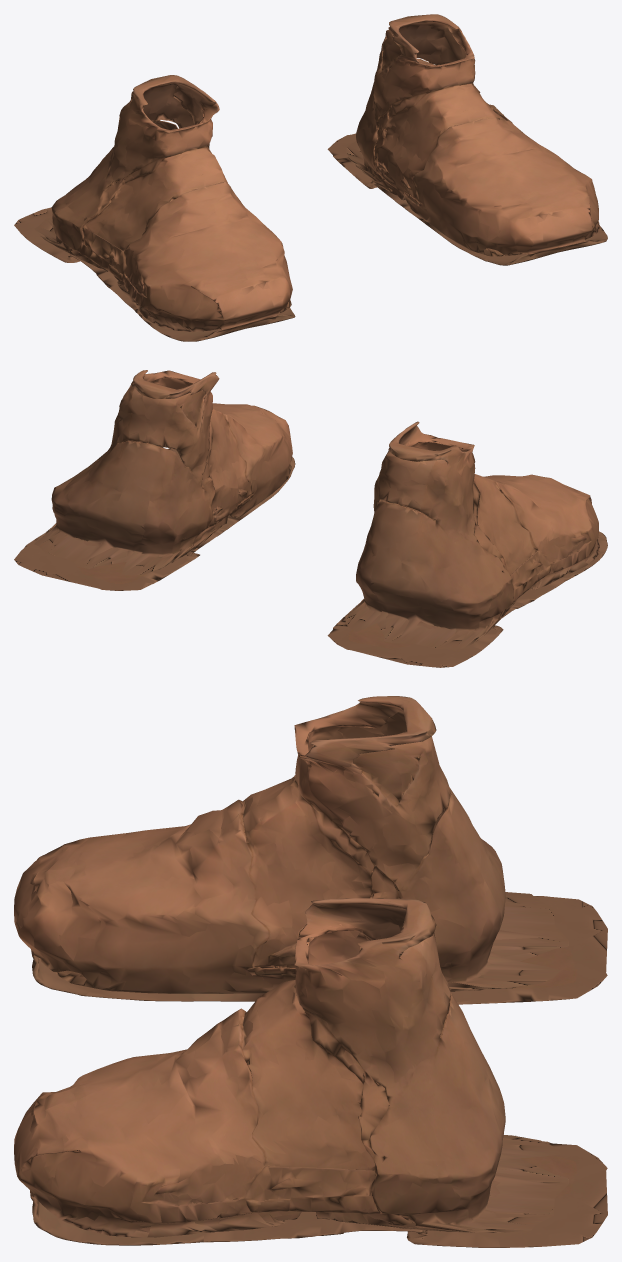
Rendered from low-shoes-before-heel-fix.glb.
3 views of the same model, one above another, from view 1: azimuth 30°, elevation 25°; view 2: azimuth 150°, elevation 25°; view 3: azimuth 270°, elevation 25° (orthographic). The views are drawn at different scales.
Visible parts, largest first — view 1: Module_low-shoes_right, Module_low-shoes_left_0; view 2: Module_low-shoes_right, Module_low-shoes_left_0; view 3: Module_low-shoes_left_0, Module_low-shoes_right.
Part boxes in pixels (x1=…): Module_low-shoes_right: x1=14, y1=75, x2=295, y2=341; Module_low-shoes_left_0: x1=327, y1=14, x2=607, y2=265; Module_low-shoes_right: x1=327, y1=421, x2=607, y2=667; Module_low-shoes_left_0: x1=14, y1=370, x2=295, y2=590; Module_low-shoes_left_0: x1=14, y1=898, x2=607, y2=1247; Module_low-shoes_right: x1=14, y1=696, x2=607, y2=1004.
Bounding box in the file's own units: 0.6121 × 0.2074 × 0.4353.
Materials: 1 (1 with a texture image).
